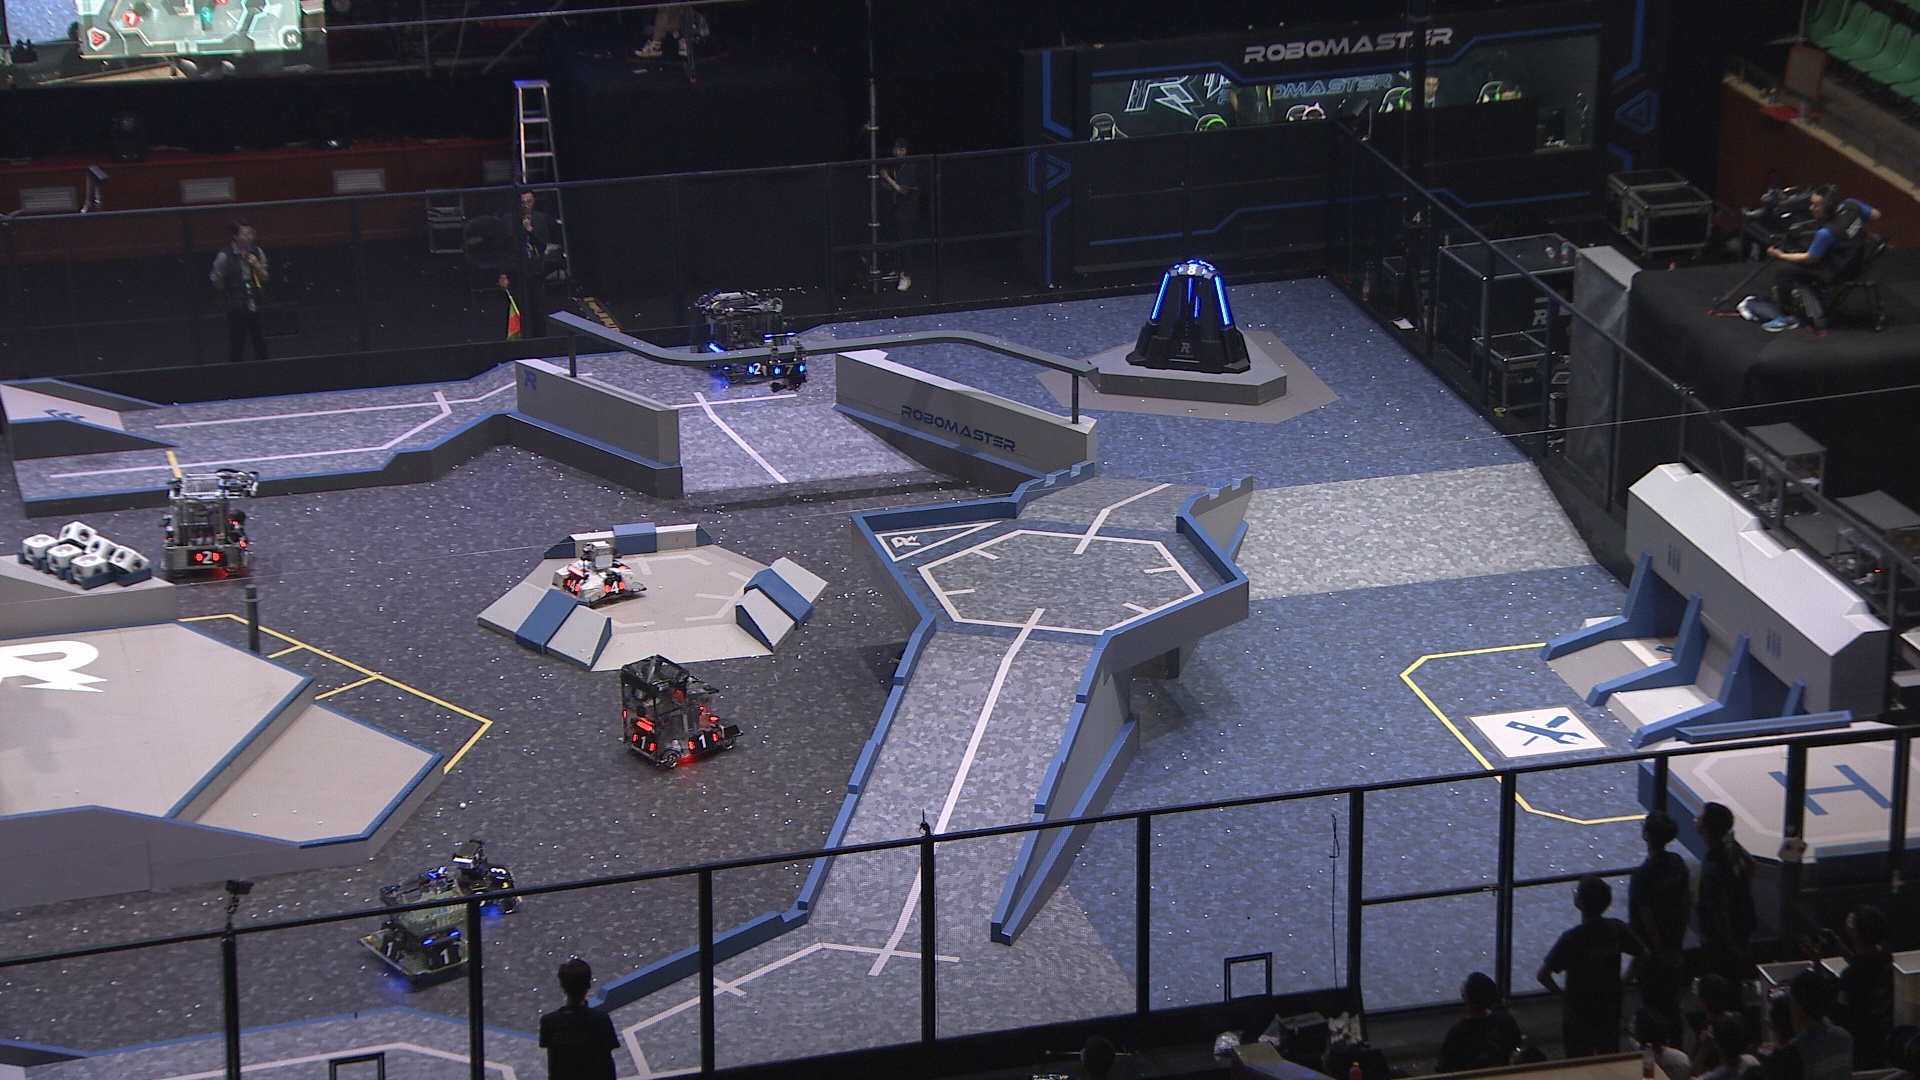armor: (1211, 276, 1232, 328), (425, 944, 465, 971), (1153, 272, 1168, 320), (629, 731, 659, 756), (688, 731, 721, 750), (378, 935, 404, 960), (774, 363, 807, 378), (193, 549, 222, 564), (491, 861, 510, 884), (1178, 262, 1207, 277), (604, 579, 626, 595), (746, 361, 767, 377), (564, 578, 583, 593), (1192, 295, 1203, 320), (1185, 277, 1195, 305)
base: (1124, 261, 1253, 373)
car: (617, 655, 746, 774), (357, 870, 479, 984), (694, 291, 793, 386), (162, 469, 252, 574), (429, 843, 522, 916), (556, 541, 647, 611)
watcher: (764, 332, 811, 392)
